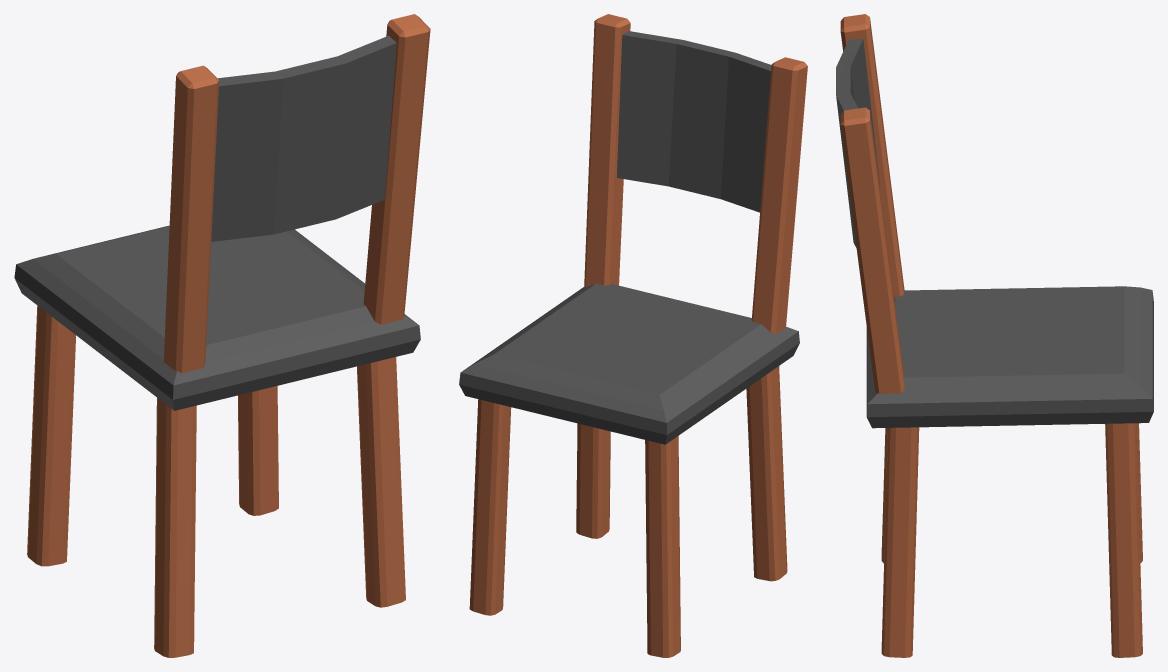
File: Chair3black.fbx
The picture shows the model from 3 angles, left to right: view 1: azimuth 30°, elevation 25°; view 2: azimuth 150°, elevation 25°; view 3: azimuth 270°, elevation 25°; orthographic projection. The views are drawn at different scales.
Parts seen in each view (by area): view 1: chair 3 black; view 2: chair 3 black; view 3: chair 3 black.
Part boxes in pixels (<box>): chair 3 black: <box>14,14,430,657</box>; chair 3 black: <box>459,14,807,657</box>; chair 3 black: <box>836,14,1153,657</box>.
Bounding box in the file's own units: 135 × 310 × 165.
1 material, 1 textured.
